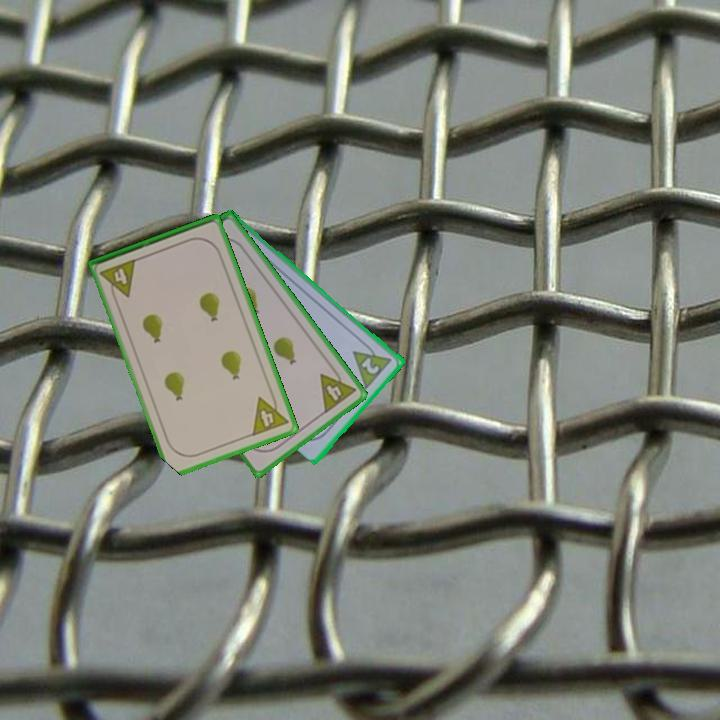2p: (358, 354, 383, 377)
4p: (316, 362, 359, 416), (248, 389, 291, 439), (97, 255, 139, 304)
